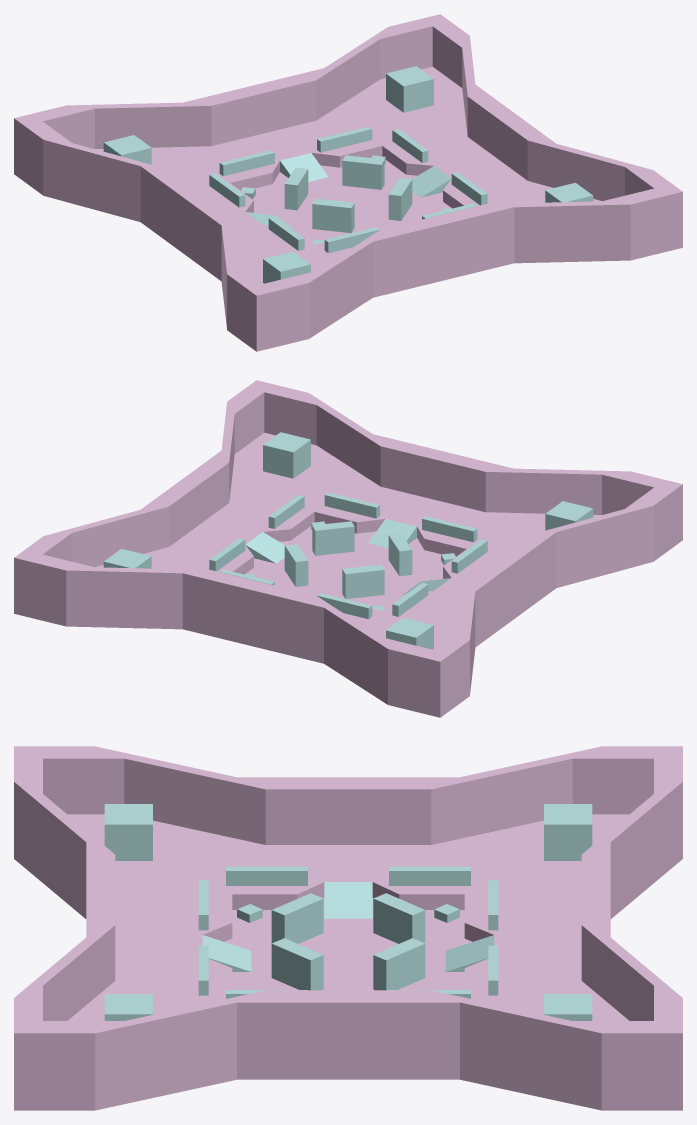
The model's file is Level3.fbx.
3 renders of one model, top to bottom at view 1: azimuth 30°, elevation 25°; view 2: azimuth 150°, elevation 25°; view 3: azimuth 270°, elevation 25°, orthographic. The views are drawn at different scales.
Parts seen in each view (by area): view 1: Cube; view 2: Cube; view 3: Cube.
Part boxes in pixels (x1,y1,x2,y2): Cube: (14, 14, 682, 351); Cube: (14, 380, 682, 717); Cube: (14, 746, 682, 1110).
Bounding box in the file's own units: 7469 × 1285 × 7361.
